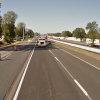Car: (34, 32, 55, 53)
